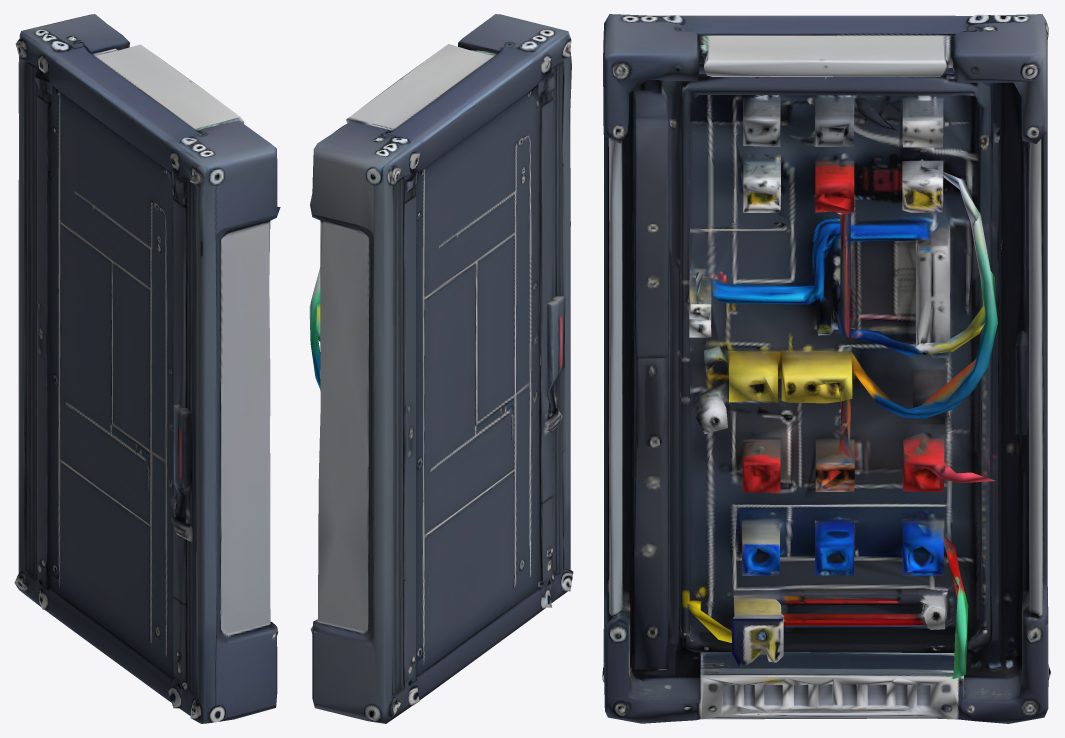
Rendered from cables.obj.
The picture shows the model from 3 angles, left to right: view 1: azimuth 30°, elevation 25°; view 2: azimuth 150°, elevation 25°; view 3: azimuth 270°, elevation 25°; orthographic projection. The views are drawn at different scales.
Parts seen in each view (by area): view 1: tripo_node_3a66c279-0e13-4221-917a-6f9b6ab9c019; view 2: tripo_node_3a66c279-0e13-4221-917a-6f9b6ab9c019; view 3: tripo_node_3a66c279-0e13-4221-917a-6f9b6ab9c019.
Part boxes in pixels (x1,y1,x2,y2): tripo_node_3a66c279-0e13-4221-917a-6f9b6ab9c019: [14, 14, 280, 723]; tripo_node_3a66c279-0e13-4221-917a-6f9b6ab9c019: [309, 14, 573, 723]; tripo_node_3a66c279-0e13-4221-917a-6f9b6ab9c019: [602, 14, 1050, 723].
Bounding box in the file's own units: 0.1958 × 1 × 0.6026.
Materials: 1 (1 with a texture image).
